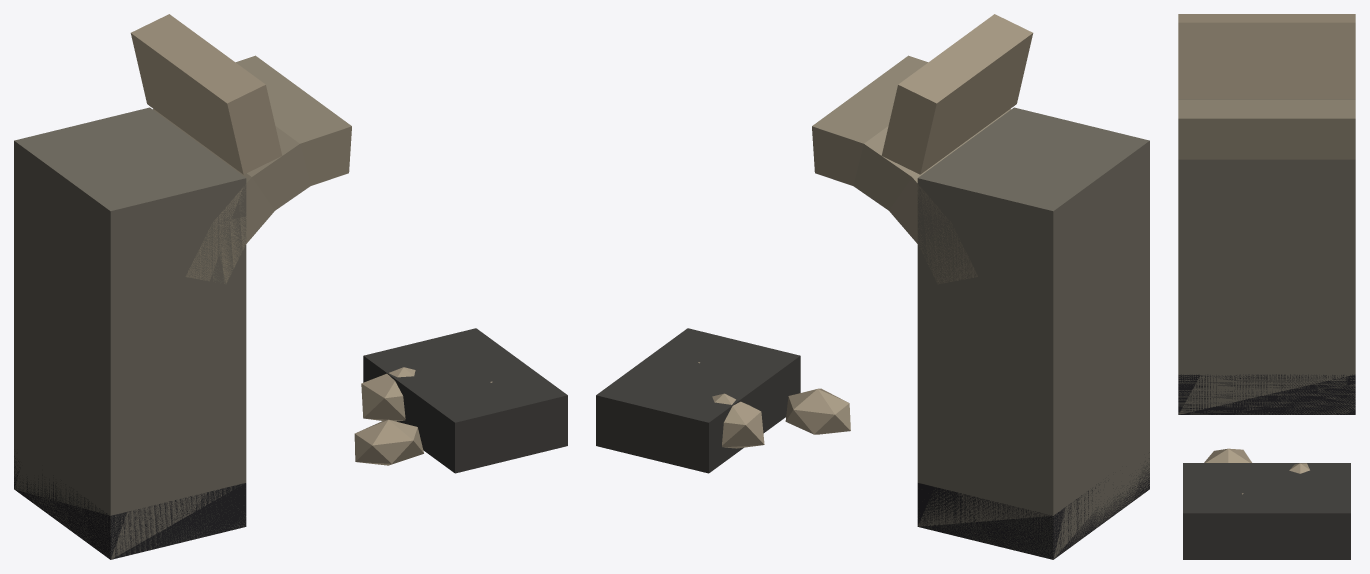
The picture shows the model from 3 angles, left to right: view 1: azimuth 30°, elevation 25°; view 2: azimuth 150°, elevation 25°; view 3: azimuth 270°, elevation 25°; orthographic projection. The views are drawn at different scales.
Parts seen in each view (by area): view 1: WK_Stone_A09_RuinArch_Collapsed4m_LOD2; view 2: WK_Stone_A09_RuinArch_Collapsed4m_LOD2; view 3: WK_Stone_A09_RuinArch_Collapsed4m_LOD2.
Boxes of the visible parts, x1,y1,x2,y2 form: WK_Stone_A09_RuinArch_Collapsed4m_LOD2: [14, 14, 567, 559]; WK_Stone_A09_RuinArch_Collapsed4m_LOD2: [596, 14, 1149, 559]; WK_Stone_A09_RuinArch_Collapsed4m_LOD2: [1178, 14, 1355, 559].
Size of the model in its own units: 4.4 by 4 by 1.6.
